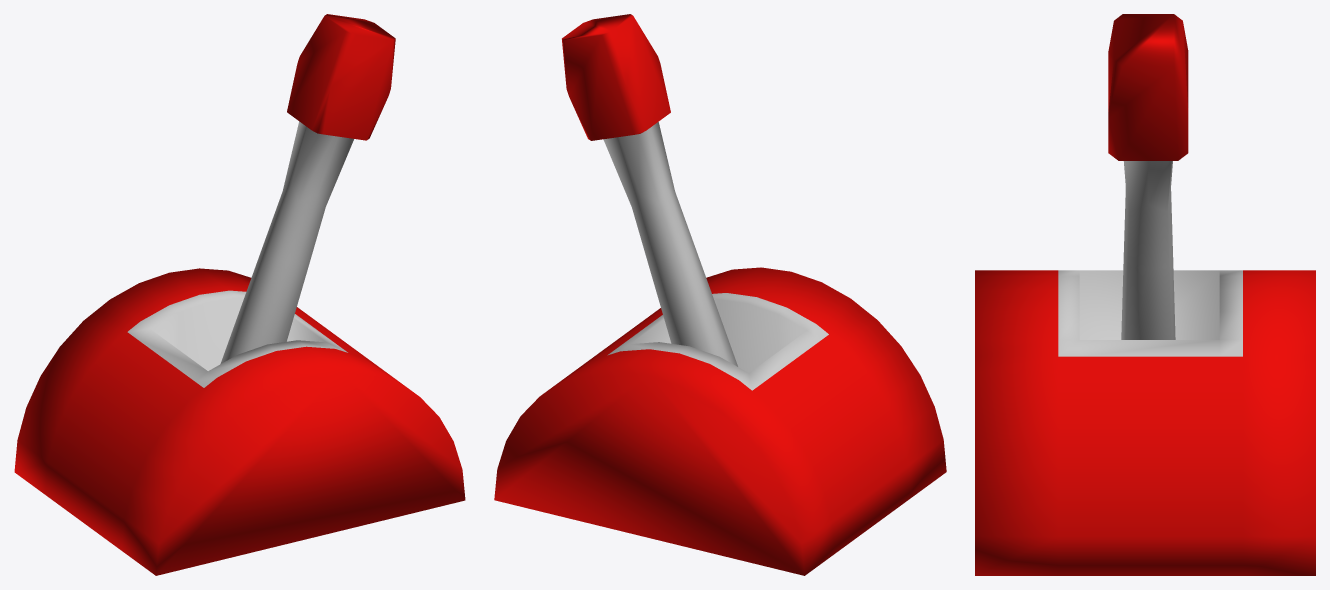
File: black.fbx
3 renders of one model, left to right at view 1: azimuth 30°, elevation 25°; view 2: azimuth 150°, elevation 25°; view 3: azimuth 270°, elevation 25°, orthographic. The views are drawn at different scales.
Visible parts, largest first — view 1: Cylinder, Cube; view 2: Cylinder, Cube; view 3: Cylinder, Cube.
Boxes of the visible parts, x1=… form: Cylinder: x1=14, y1=268, x2=465, y2=575; Cube: x1=220, y1=14, x2=395, y2=363; Cylinder: x1=494, y1=267, x2=946, y2=575; Cube: x1=562, y1=14, x2=737, y2=366; Cylinder: x1=975, y1=270, x2=1315, y2=575; Cube: x1=1108, y1=14, x2=1188, y2=339.
Size of the model in its own units: 200 by 271 by 158.
